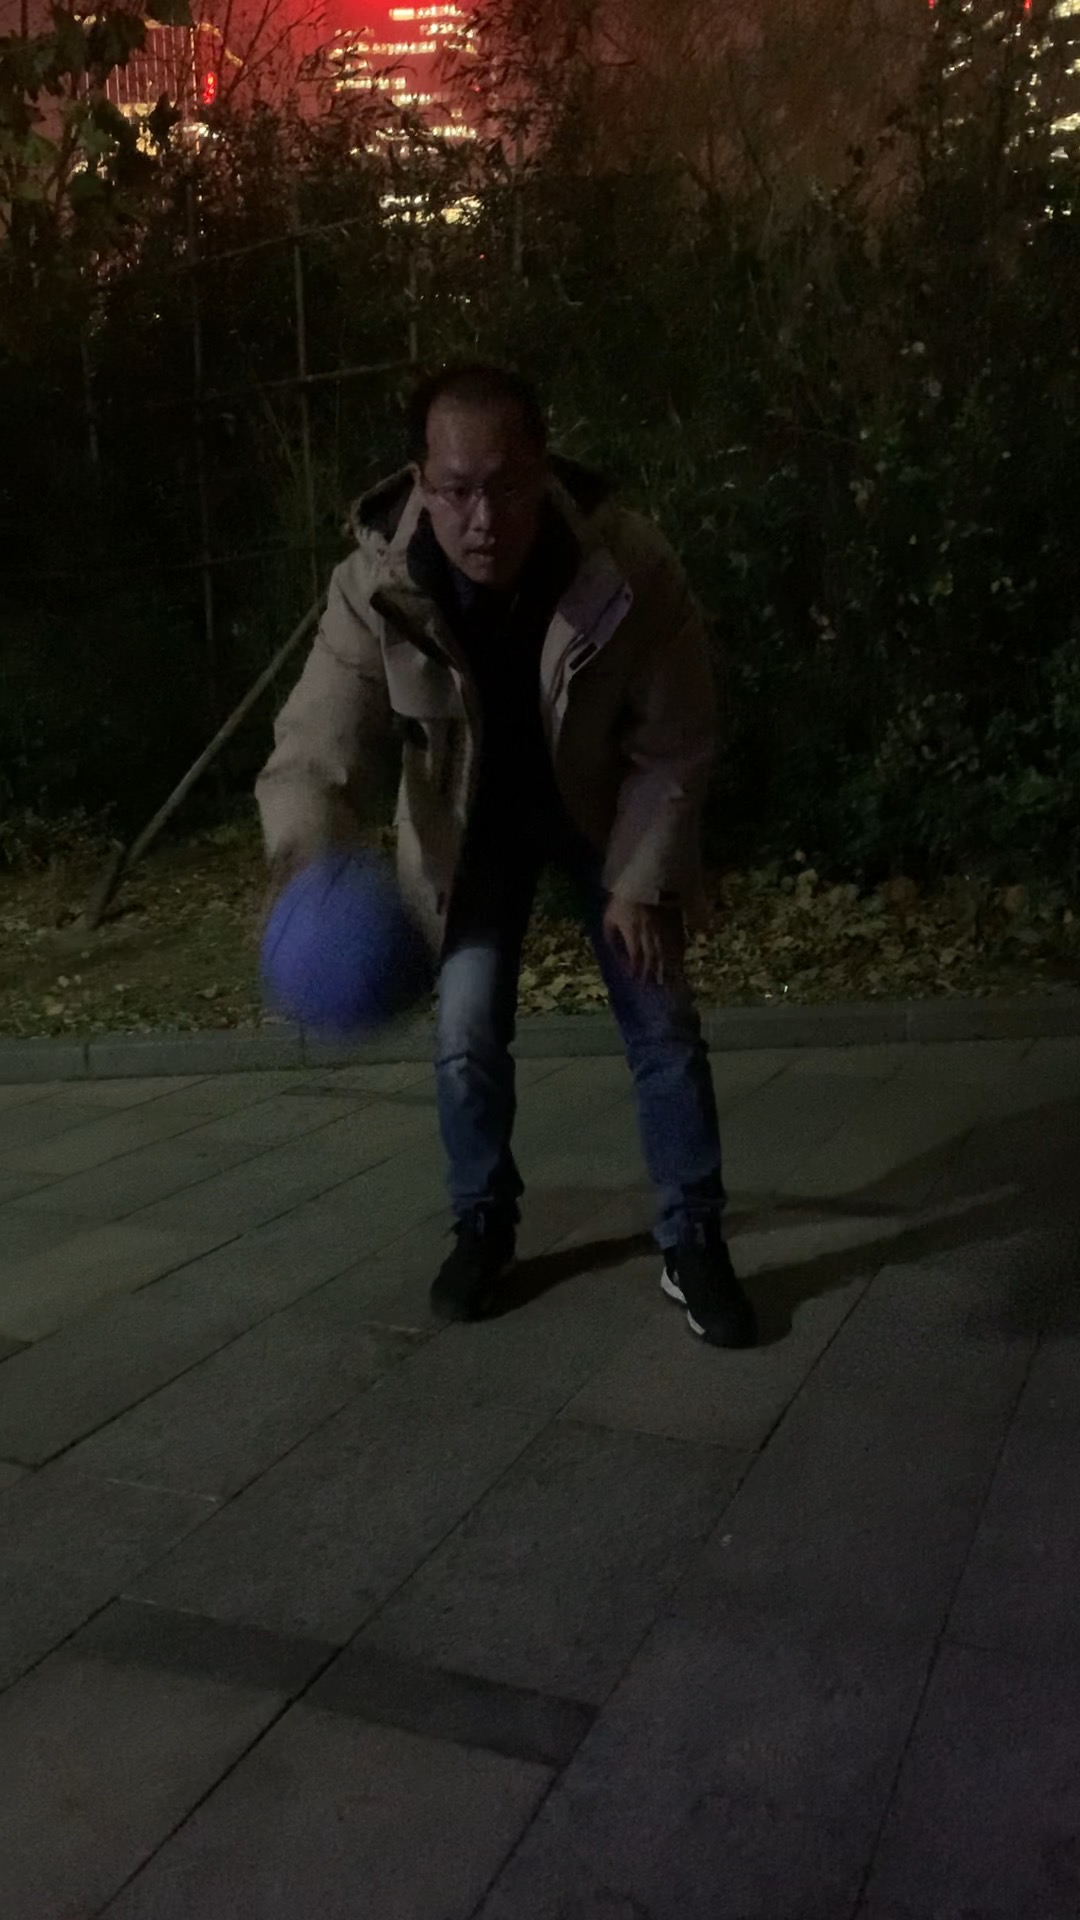ball: (264, 880, 434, 1039)
